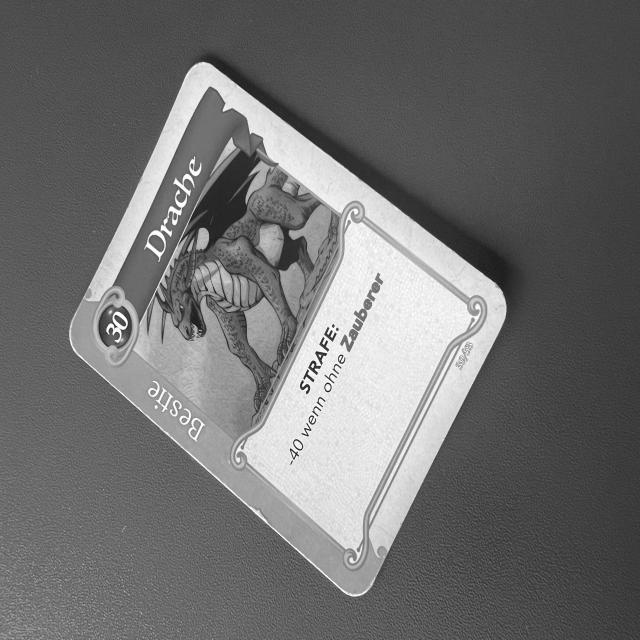Dragon: (60, 54, 518, 608)
